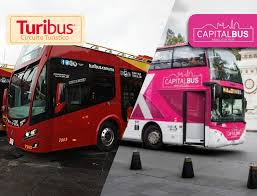bus: (3, 41, 154, 157), (119, 41, 248, 151)
